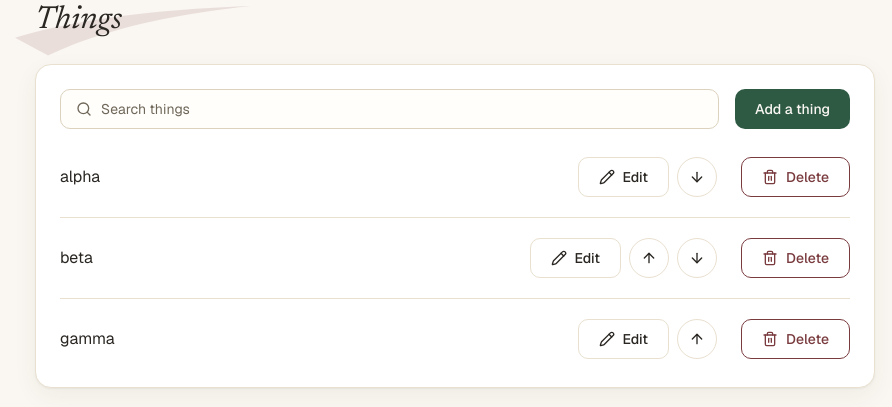
it: ItemList › a list with nothing to show › leaves an unmatched query to the search notice once there are items
Type "nothing here" into the search field labelled "Search things". click: (390, 109)
box: [60,89,719,129]
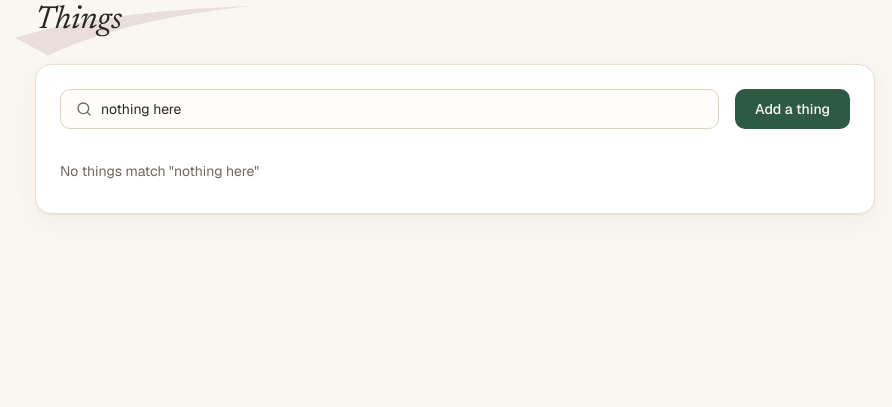
Now the button "Delete" is gone
Now the text "No things match \"nothing here\"" is shown, box [60,162,259,180]
